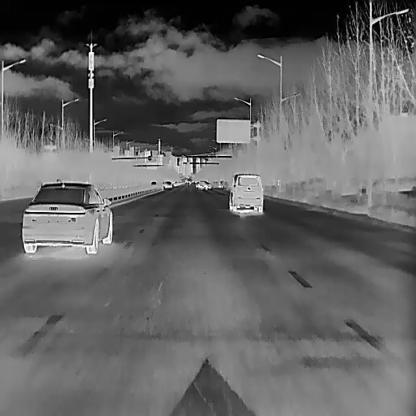car: (21, 180, 112, 253), (228, 173, 263, 214), (195, 180, 211, 190), (162, 179, 171, 187), (150, 181, 156, 185)
